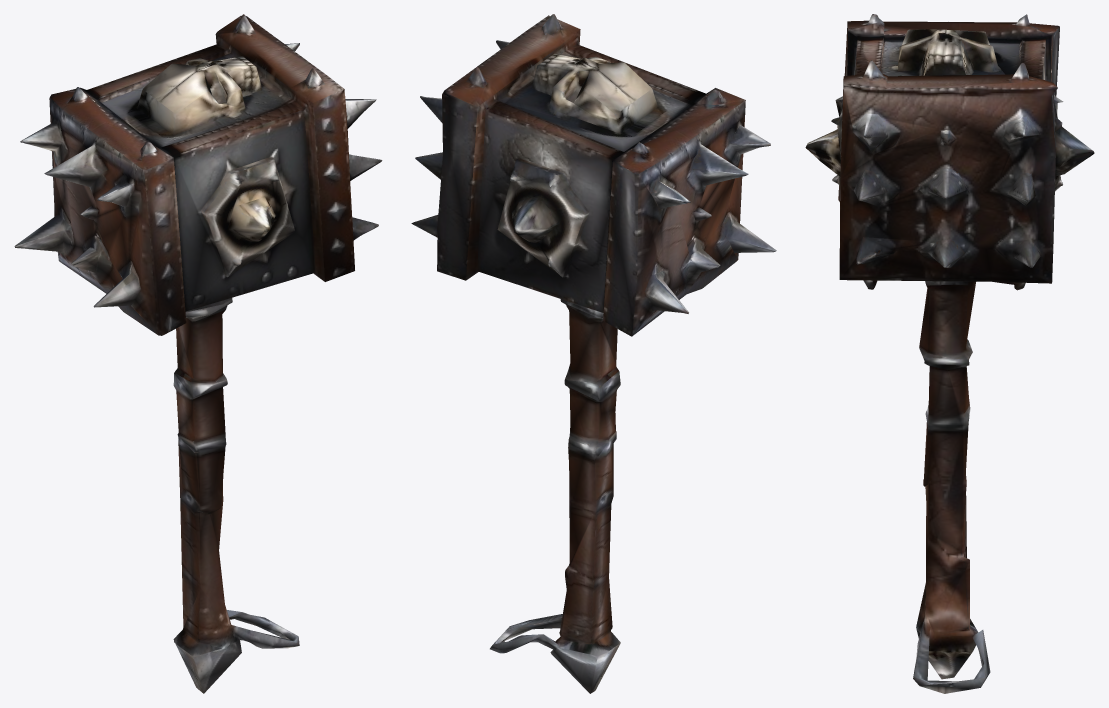
Rendered from 1486_mace.glb.
3 views of the same model, side by side, from view 1: azimuth 30°, elevation 25°; view 2: azimuth 150°, elevation 25°; view 3: azimuth 270°, elevation 25° (orthographic). The views are drawn at different scales.
Visible parts, largest first — view 1: Model; view 2: Model; view 3: Model.
Part boxes in pixels (x1=…): Model: x1=14, y1=14, x2=382, y2=693; Model: x1=411, y1=14, x2=776, y2=693; Model: x1=805, y1=14, x2=1094, y2=693.
Size of the model in its own units: 0.497 by 1 by 0.3986.
1 material, 1 textured.
